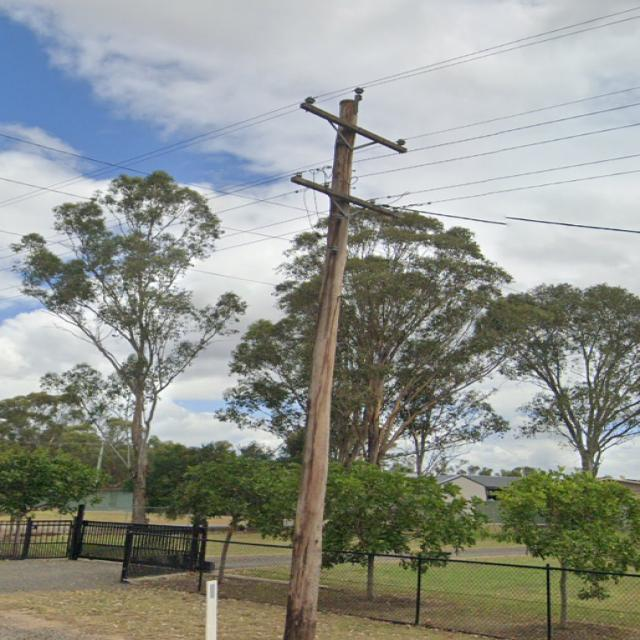HV-transmission: (303, 87, 407, 151)
crossarm: (297, 101, 404, 152), (290, 174, 400, 218)
timber-pole: (284, 101, 358, 632)
